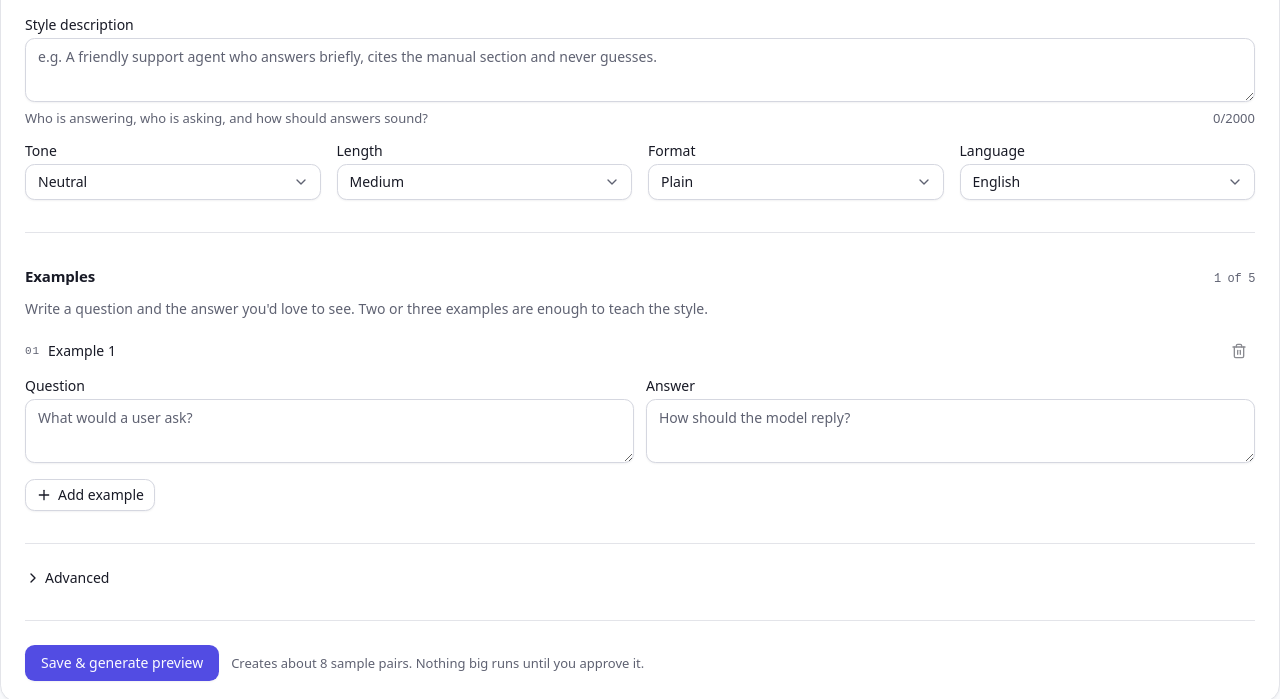
Test case: StylePanel › adds and removes examples within 1 to 5
The image size is (1280, 699).
(page scrolled)
Expected: the button named "Remove example 1" is disabled, left=1223, top=335, right=1255, bottom=367
Click the button "Add example" at point(90, 495), box left=25, top=479, right=155, bottom=511
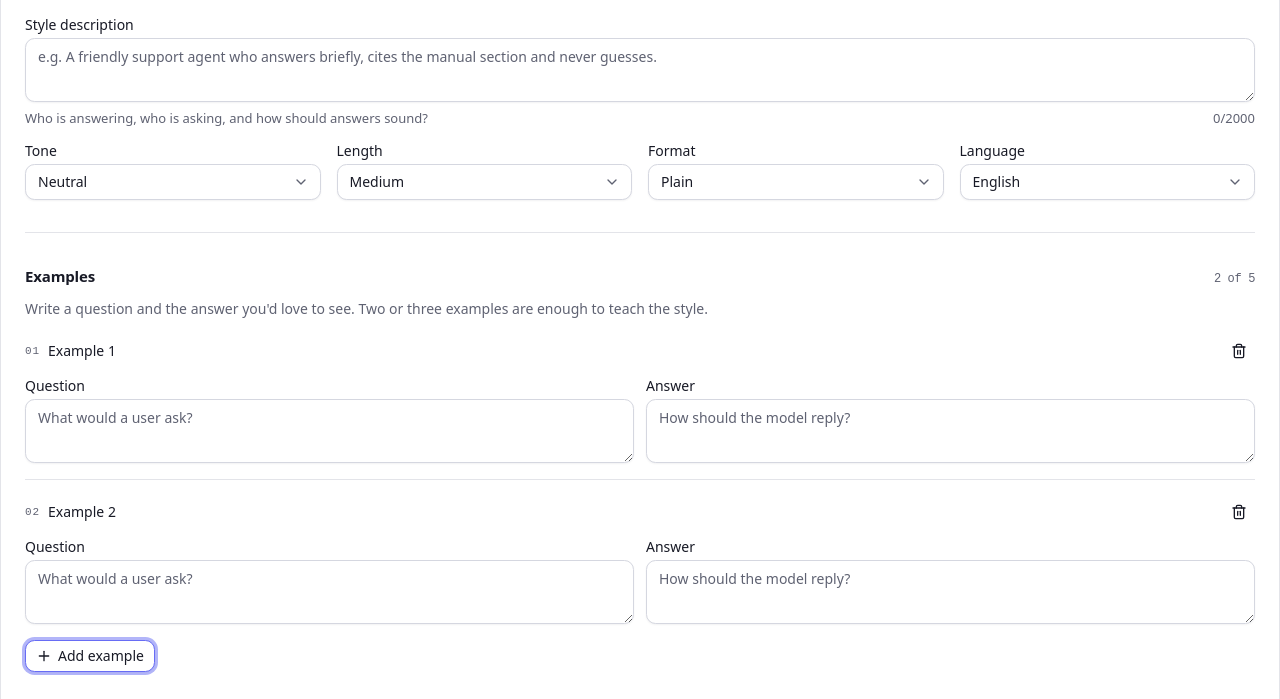
Click the button "Add example" at point(90, 656), box left=25, top=640, right=155, bottom=672
(page scrolled)
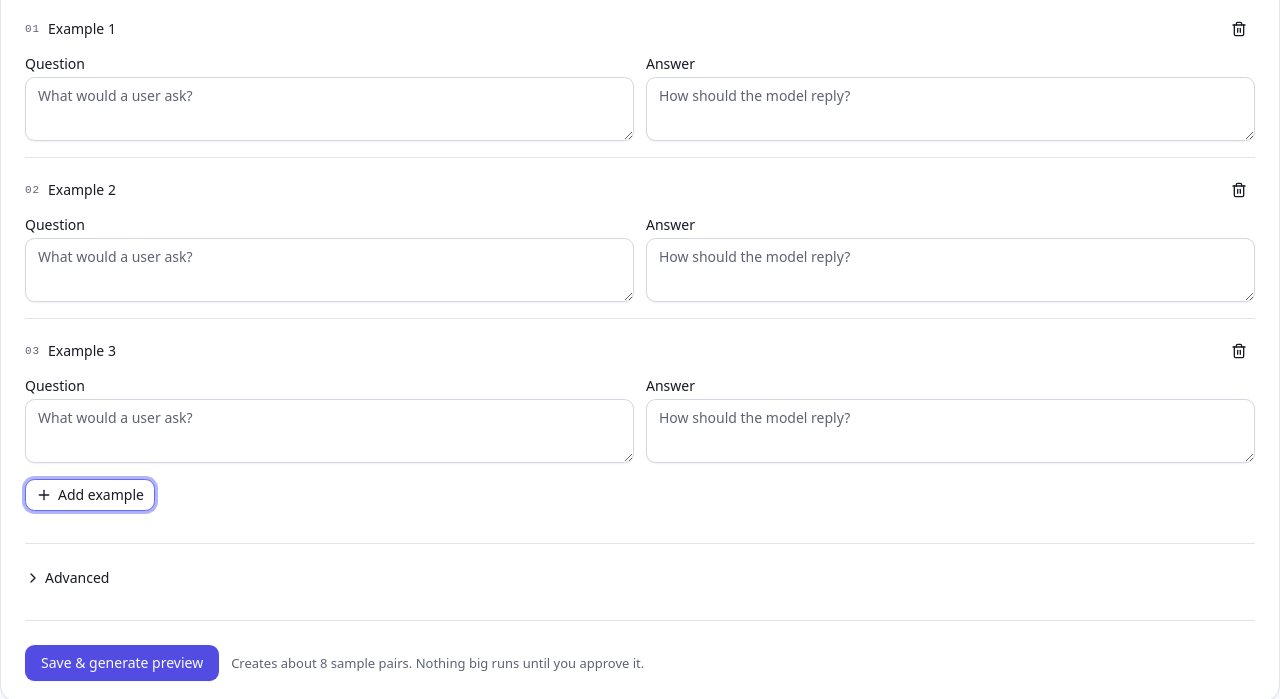
Click the button "Add example" at point(90, 495), box left=25, top=479, right=155, bottom=511
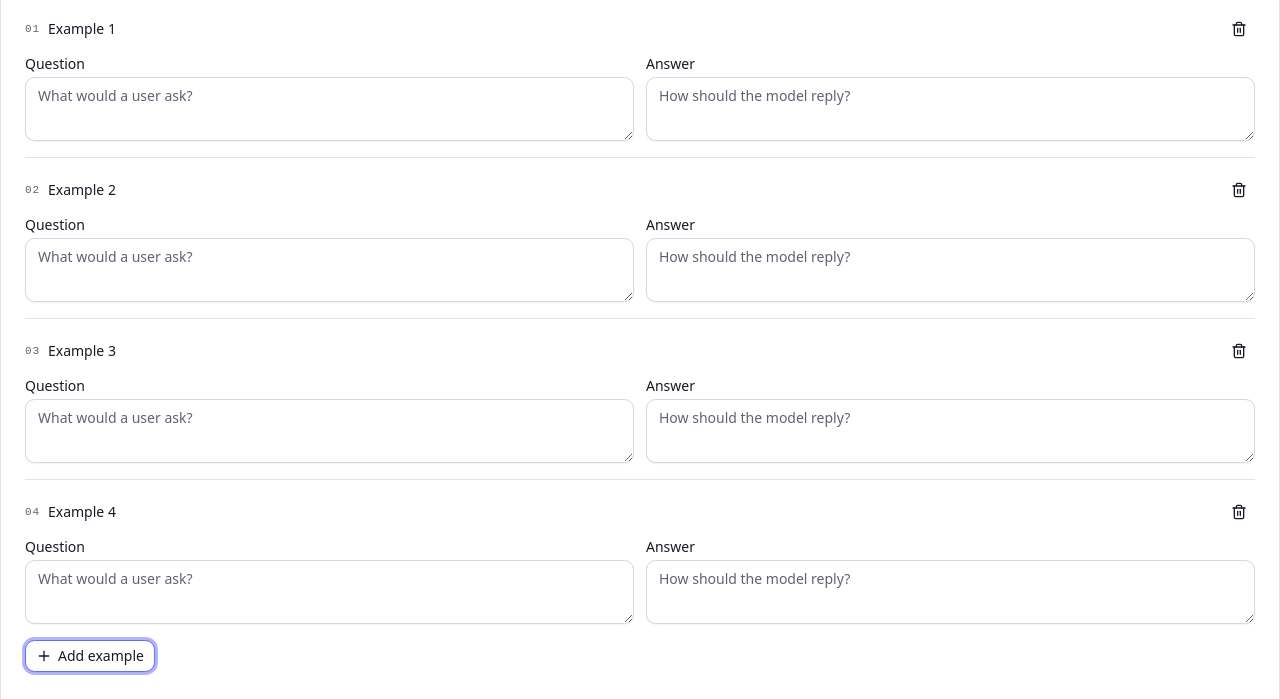
Click the button "Add example" at point(90, 656), box left=25, top=640, right=155, bottom=672
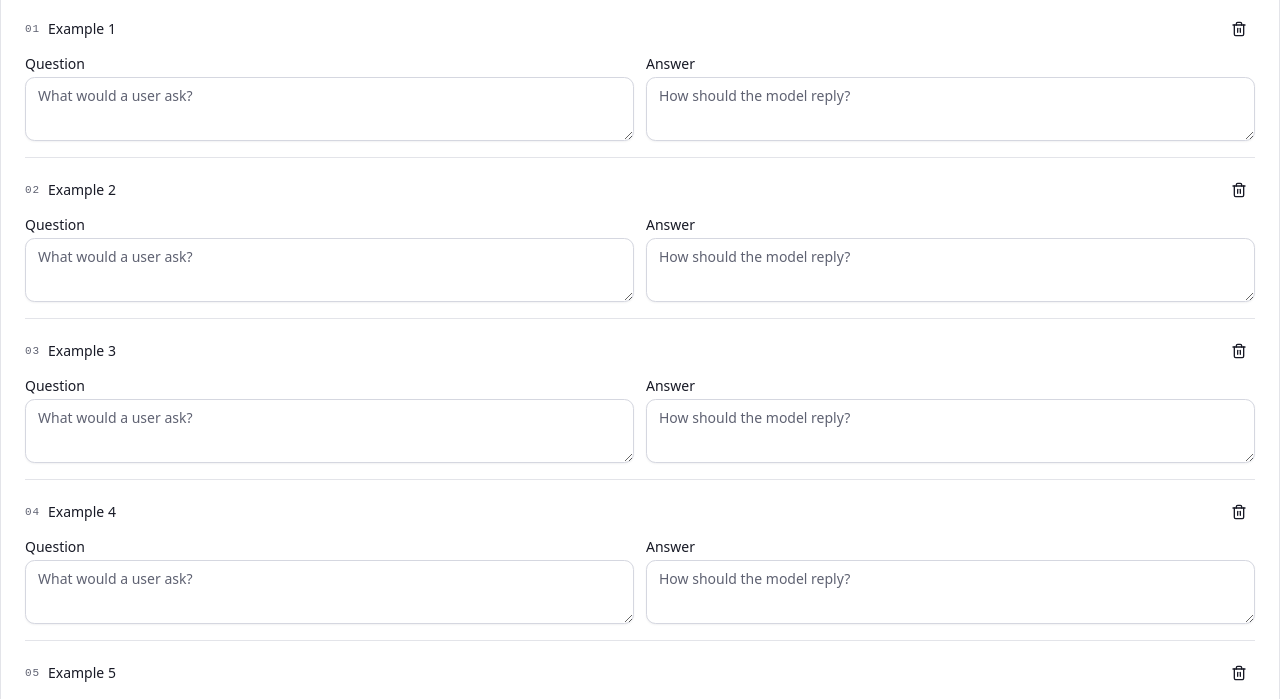
Click the button named "Remove example 5" at point(1239, 673), box left=1223, top=657, right=1255, bottom=689
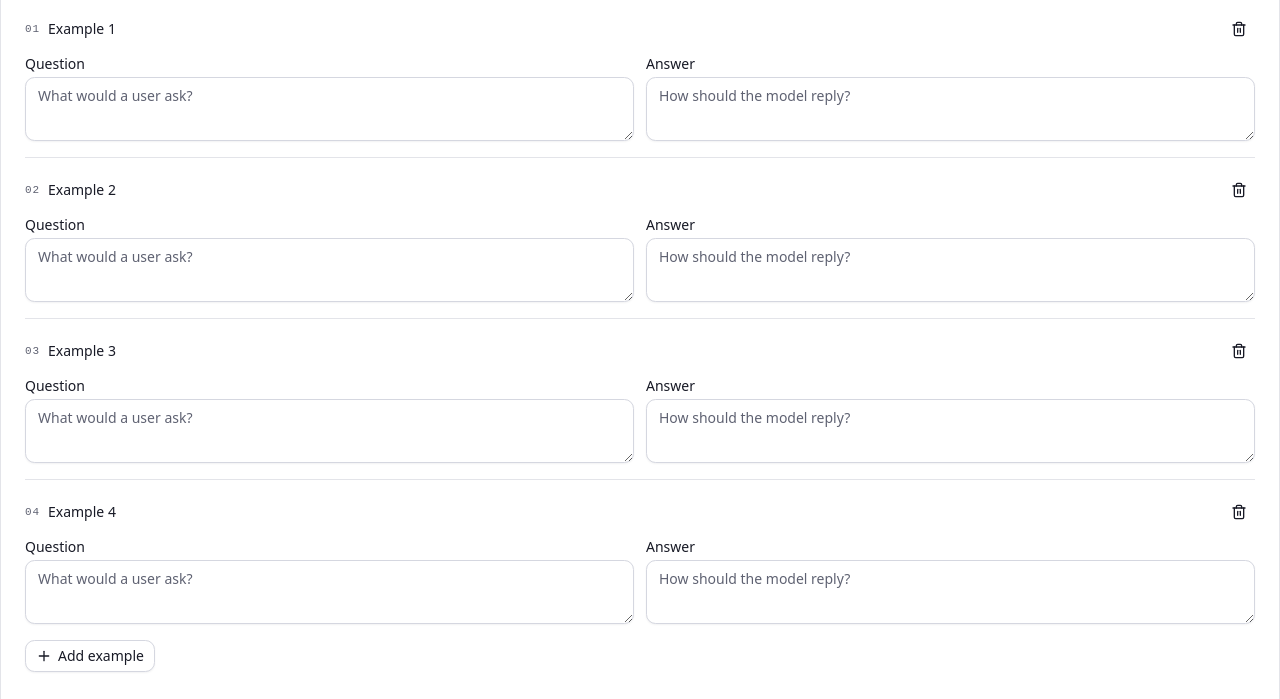
Now the button "Add example" is enabled, box left=25, top=640, right=155, bottom=672
